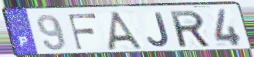4: (213, 8, 243, 48)
9: (36, 13, 69, 52)
A: (106, 10, 148, 51)
F: (67, 13, 99, 52)
J: (146, 12, 171, 48)
R: (167, 9, 213, 49)
